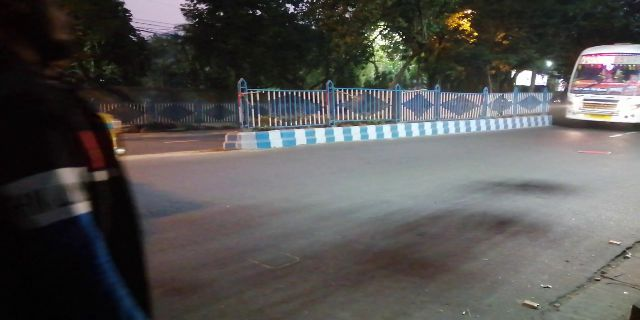Bus: (550, 40, 640, 128)
